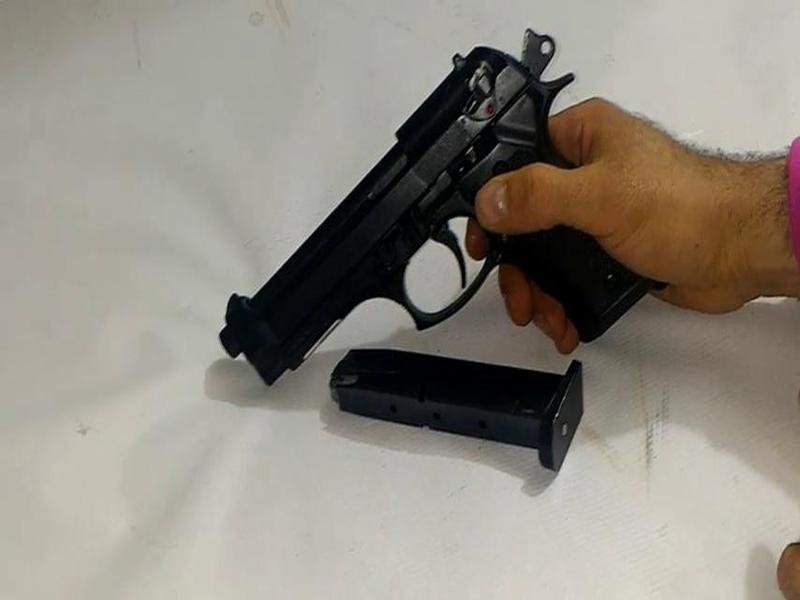Pistola: (214, 16, 685, 394)
